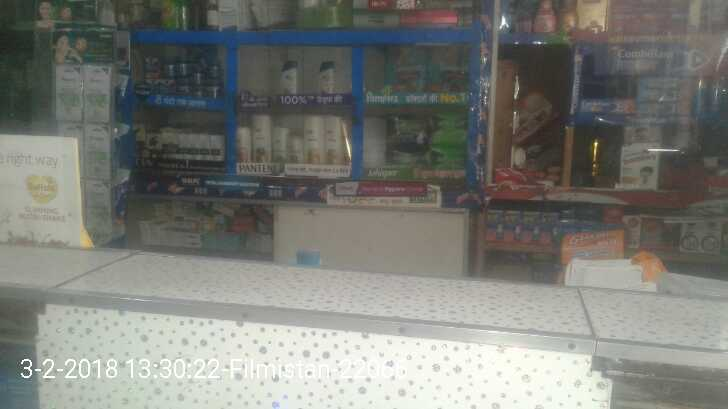vicks: (155, 56, 221, 104)
